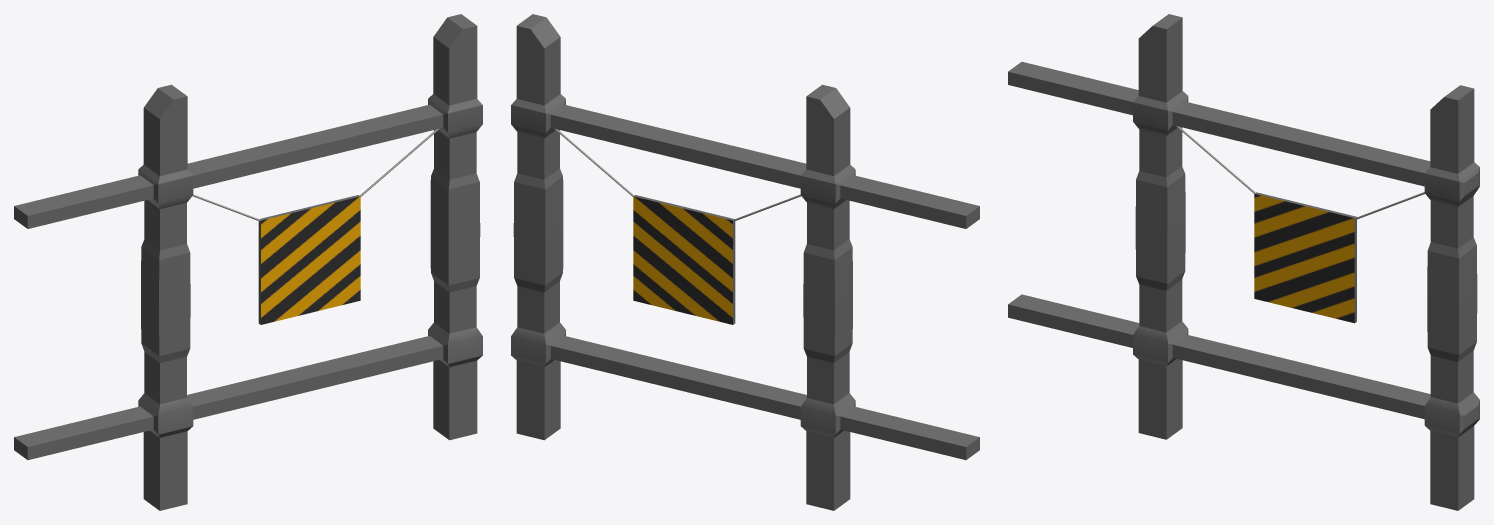
File: Fence.fbx
3 views of the same model, side by side, from view 1: azimuth 30°, elevation 25°; view 2: azimuth 150°, elevation 25°; view 3: azimuth 330°, elevation 25° (orthographic).
Parts seen in each view (by area): view 1: pCube3, pCube4; view 2: pCube3, pCube4; view 3: pCube3, pCube4.
Boxes of the visible parts, x1=… form: pCube3: x1=14, y1=14, x2=482, y2=510; pCube4: x1=258, y1=195, x2=360, y2=324; pCube3: x1=511, y1=14, x2=979, y2=510; pCube4: x1=633, y1=195, x2=735, y2=324; pCube3: x1=1008, y1=14, x2=1479, y2=510; pCube4: x1=1254, y1=192, x2=1356, y2=323.
Bounding box in the file's own units: 4.54 × 3.91 × 0.3495.
